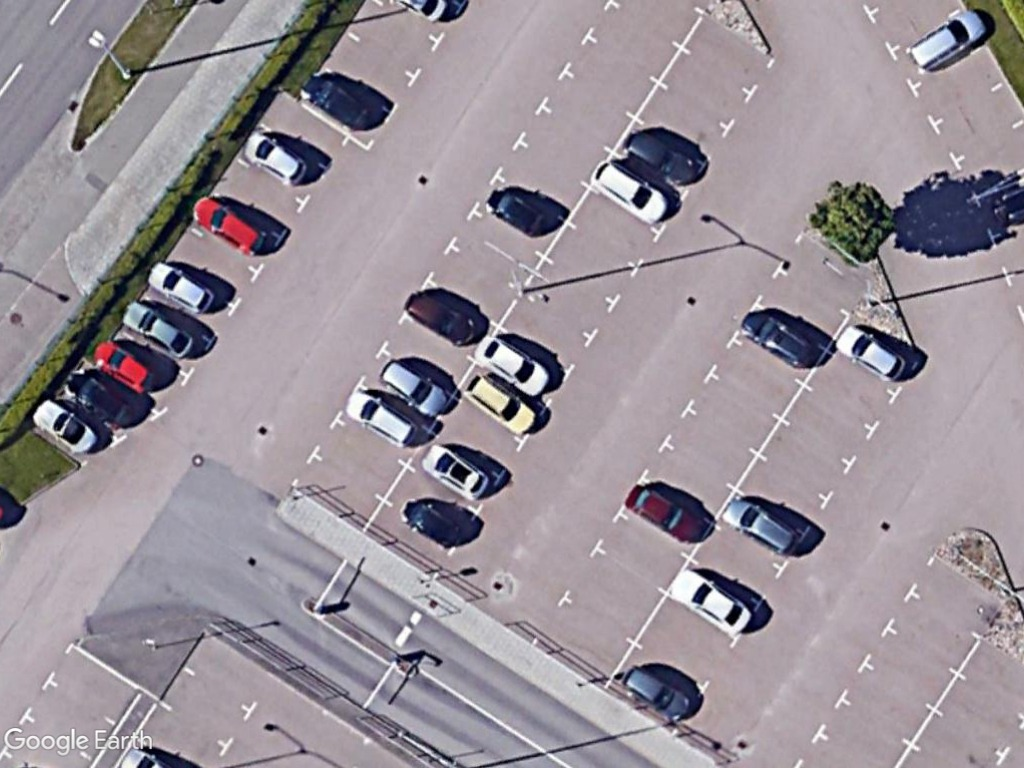car: (902, 6, 996, 75), (671, 565, 761, 637), (589, 157, 676, 229), (459, 367, 546, 438), (621, 481, 711, 548), (740, 306, 827, 375), (469, 330, 557, 398), (115, 294, 201, 363), (185, 192, 272, 260), (622, 127, 708, 191), (294, 70, 380, 134), (721, 495, 803, 558), (344, 388, 426, 451), (618, 659, 696, 724), (403, 289, 482, 352), (396, 491, 470, 555), (379, 357, 455, 419), (142, 257, 221, 316), (834, 324, 910, 384), (420, 439, 491, 503), (240, 127, 314, 187), (89, 337, 163, 394), (483, 186, 554, 239)
